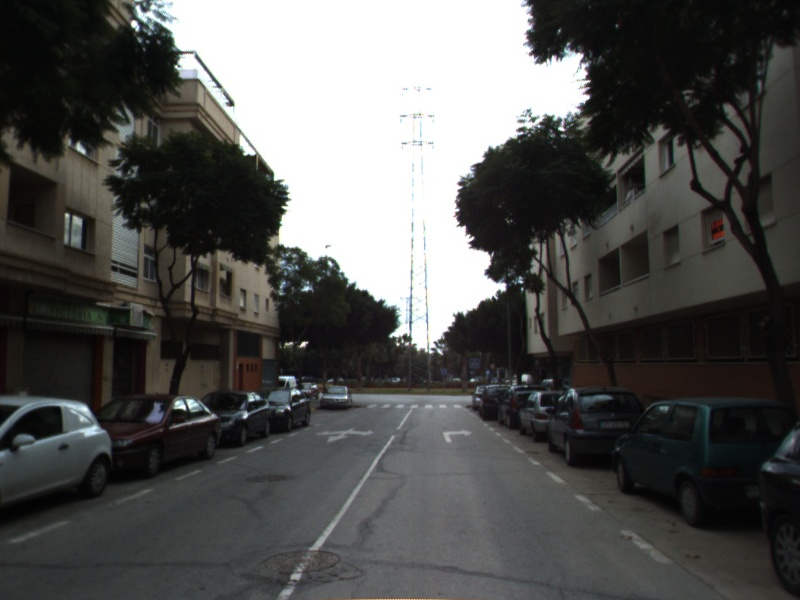RIGHT: (440, 427, 474, 444)
